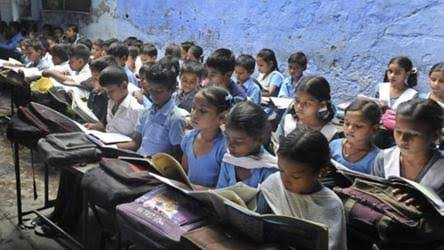student: (276, 127, 329, 193), (394, 102, 441, 157), (336, 95, 381, 147), (188, 83, 228, 139), (224, 102, 262, 159), (292, 71, 333, 121), (144, 59, 180, 106), (203, 46, 237, 93), (377, 54, 412, 93), (96, 64, 131, 99), (232, 48, 257, 87), (253, 48, 282, 75), (62, 43, 92, 69), (285, 52, 311, 79), (181, 59, 199, 95), (135, 37, 157, 66), (422, 61, 444, 89), (164, 39, 185, 64), (27, 39, 50, 59), (186, 39, 204, 62)
